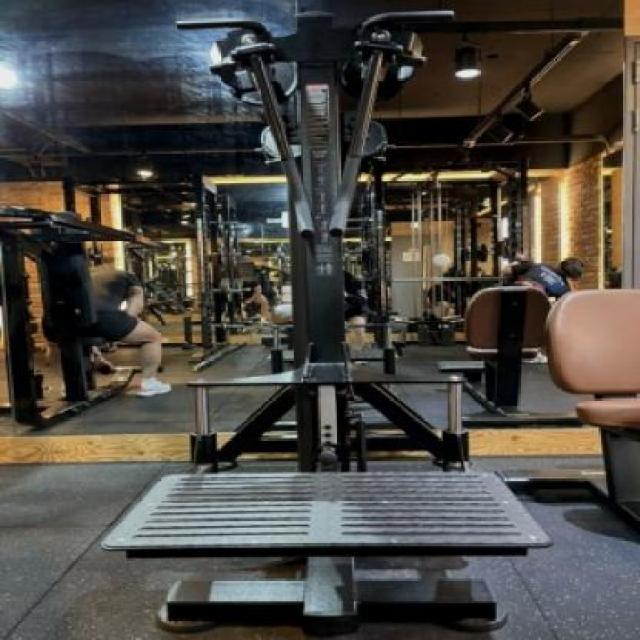lateral raises machine: (176, 6, 467, 623)
